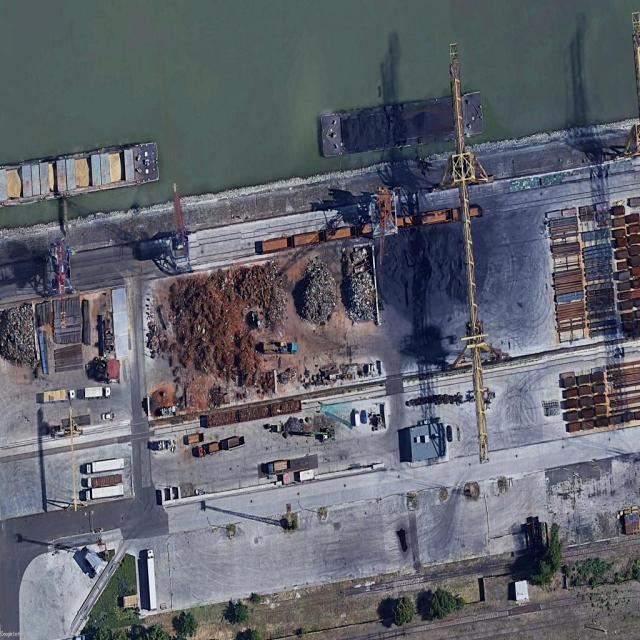dump_site: (341, 245, 377, 329), (298, 260, 339, 329), (0, 304, 37, 370)
